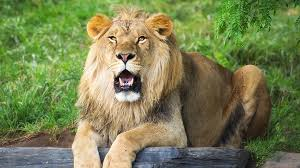lion: (61, 14, 274, 161)
